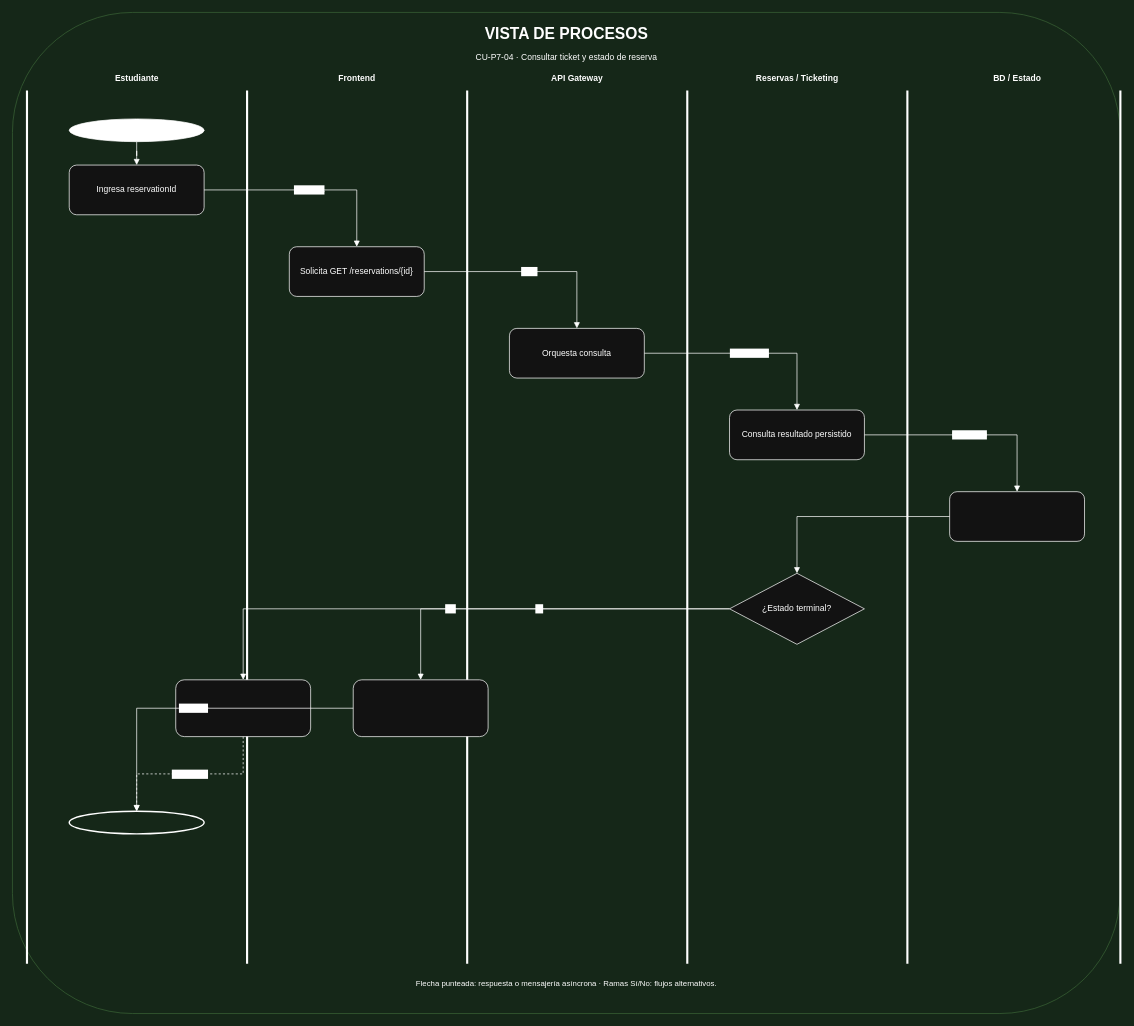
Some shapes in this 1134 by 1026 pixel diagram are drawn without their labels. The shapes that lost their labels are listed below. From the top down, each one's centre as x and y in pixels, then its label:
the point at 1017,516: Retorna estado y ticket
the point at 243,708: Muestra PENDIENTE Permite actualizar
the point at 420,708: Muestra estado terminal y ticket si existe
